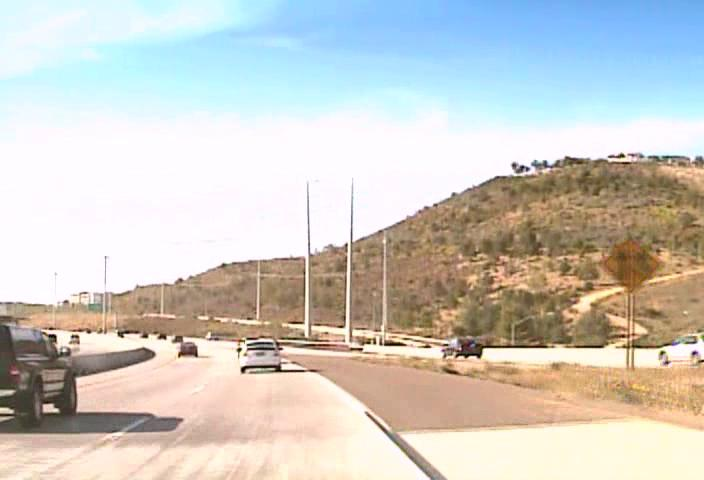addedLane: (598, 235, 661, 293)
